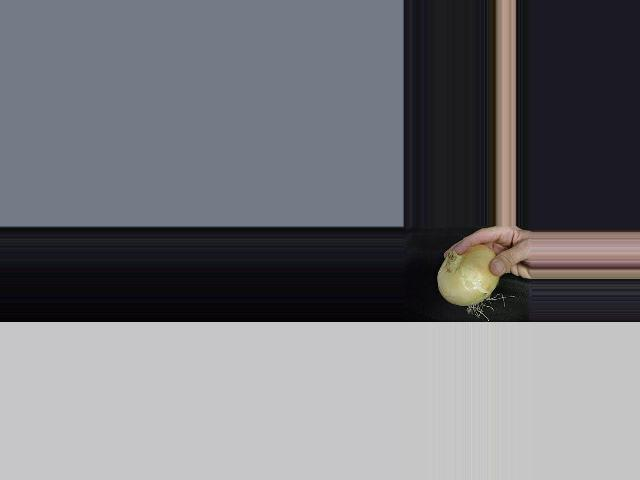onion: (438, 243, 498, 307)
